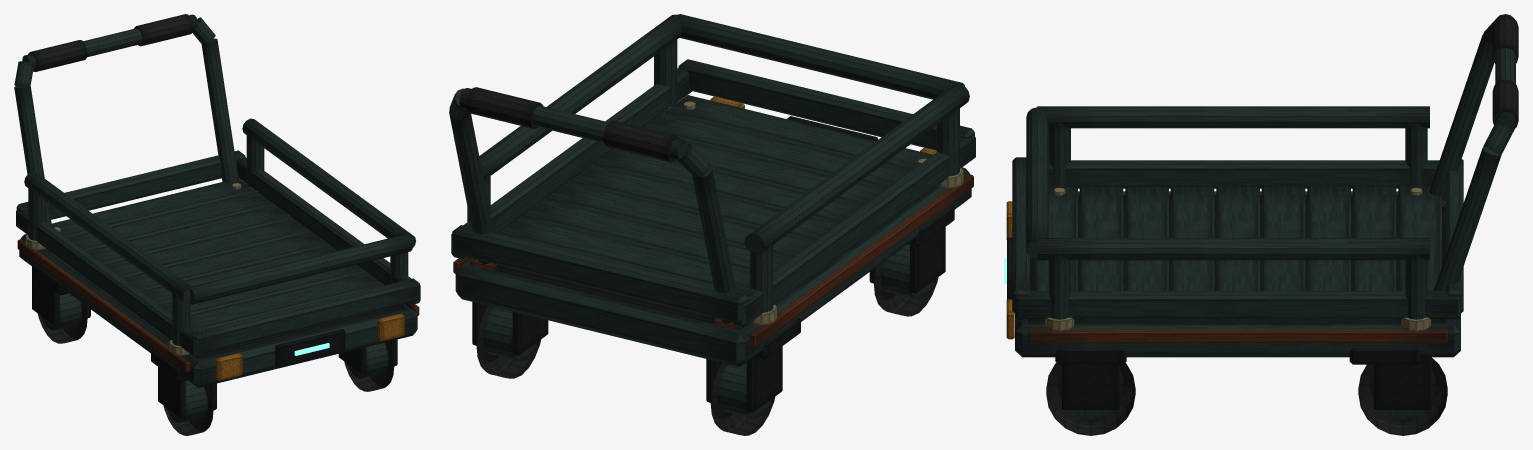
File: ExcavationCart.fbx
The picture shows the model from 3 angles, left to right: view 1: azimuth 30°, elevation 25°; view 2: azimuth 150°, elevation 25°; view 3: azimuth 270°, elevation 25°; orthographic projection. The views are drawn at different scales.
Parts seen in each view (by area): view 1: THCart_Chassis, THCart_PushHandle, THCart_Wheel_FrontL.001, THCart_Wheel_FrontR.001, THCart_Wheel_RearL.001, THCart_Fork_RearL; view 2: THCart_Chassis, THCart_PushHandle, THCart_Wheel_RearL.001, THCart_Wheel_RearR.001, THCart_Wheel_FrontL.001, THCart_Fork_RearL, THCart_Fork_RearR; view 3: THCart_Chassis, THCart_PushHandle, THCart_Wheel_RearR.001, THCart_Wheel_FrontR.001, THCart_Fork_RearR.
Boxes of the visible parts, bbox=[...] form: THCart_Chassis: bbox=[16, 118, 420, 418]; THCart_PushHandle: bbox=[14, 14, 238, 225]; THCart_Wheel_FrontL.001: bbox=[163, 380, 213, 435]; THCart_Wheel_FrontR.001: bbox=[344, 341, 394, 391]; THCart_Wheel_RearL.001: bbox=[37, 293, 87, 343]; THCart_Fork_RearL: bbox=[32, 266, 90, 325]; THCart_Chassis: bbox=[451, 14, 975, 366]; THCart_PushHandle: bbox=[449, 87, 736, 329]; THCart_Wheel_RearL.001: bbox=[710, 362, 775, 435]; THCart_Wheel_RearR.001: bbox=[476, 305, 541, 378]; THCart_Wheel_FrontL.001: bbox=[873, 244, 938, 316]; THCart_Fork_RearL: bbox=[706, 346, 782, 412]; THCart_Fork_RearR: bbox=[472, 302, 548, 355]; THCart_Chassis: bbox=[1004, 106, 1463, 409]; THCart_PushHandle: bbox=[1429, 14, 1518, 321]; THCart_Wheel_RearR.001: bbox=[1358, 358, 1447, 435]; THCart_Wheel_FrontR.001: bbox=[1046, 362, 1135, 435]; THCart_Fork_RearR: bbox=[1374, 355, 1431, 409].
Size of the model in its own units: 0.766 by 0.779 by 1.15.
Materials: 2 (1 with a texture image).
